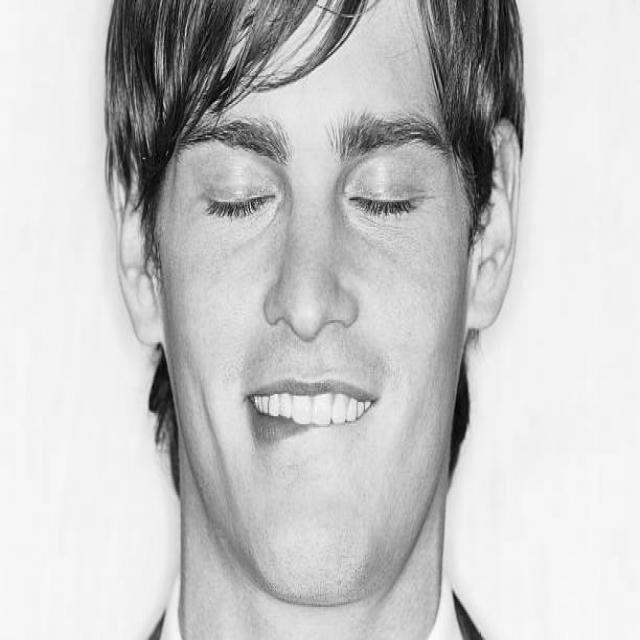real: (105, 0, 516, 609), (172, 116, 476, 246)
